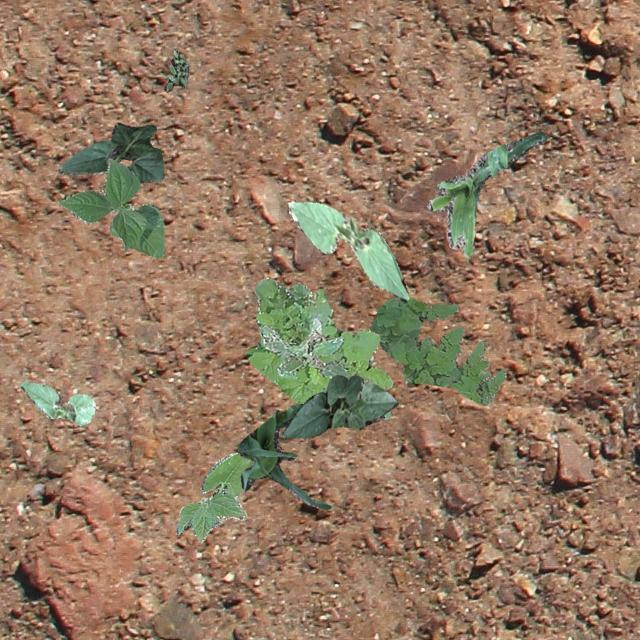crop: (426, 130, 546, 258), (287, 200, 408, 300), (58, 158, 164, 256), (236, 403, 330, 509), (280, 373, 396, 438), (175, 452, 252, 540), (58, 122, 164, 182), (20, 380, 94, 424)
weed: (245, 277, 392, 418), (368, 296, 504, 404), (262, 316, 350, 376), (162, 50, 188, 90)
